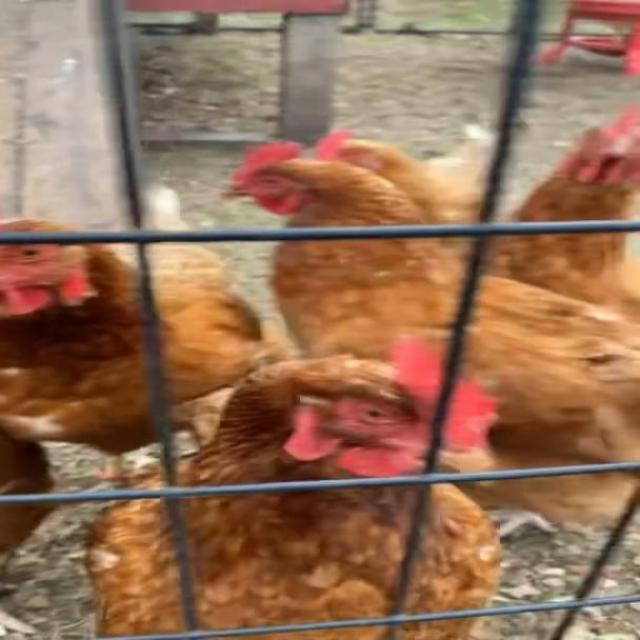Chicken: (222, 141, 640, 520), (81, 336, 505, 640), (0, 186, 276, 485), (313, 132, 640, 321), (0, 424, 66, 640)
